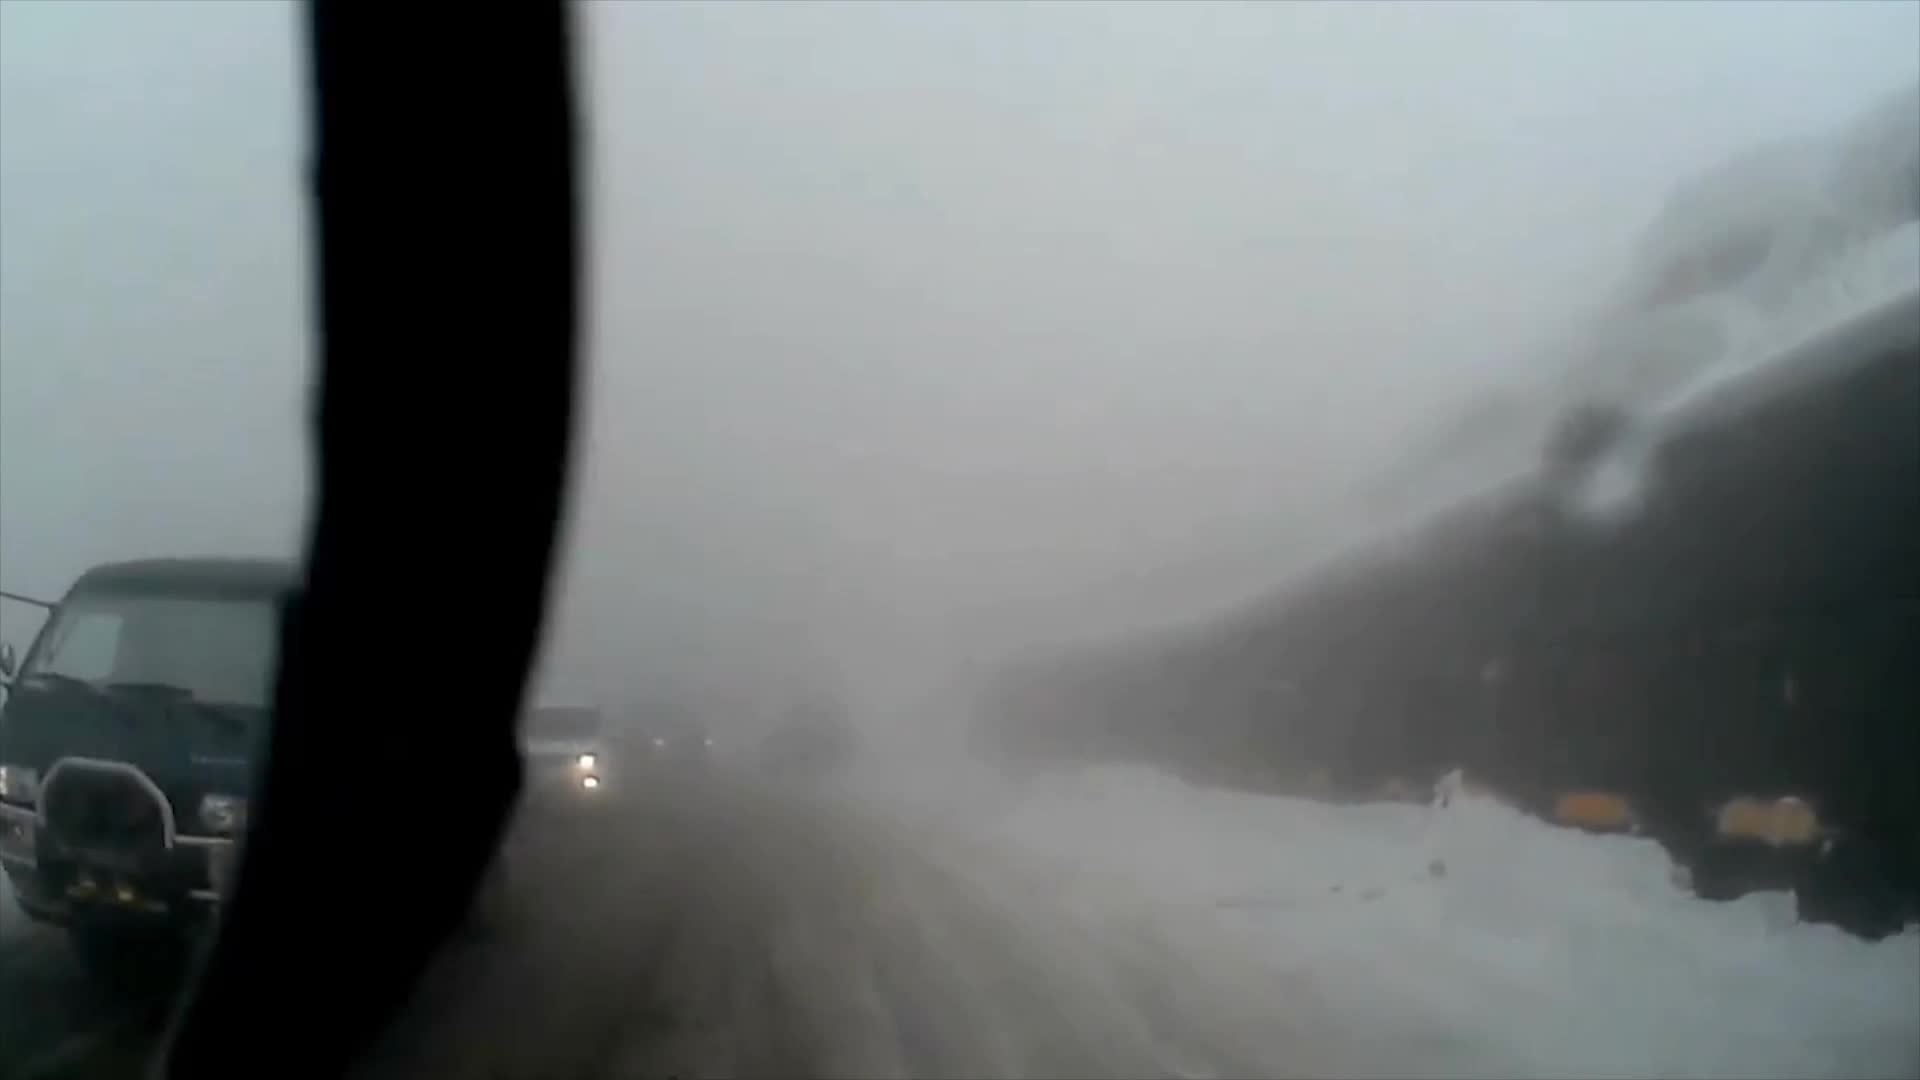vehicle: (0, 553, 516, 1013), (473, 702, 618, 822)
